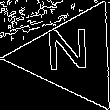N_S: (48, 30, 96, 82)
